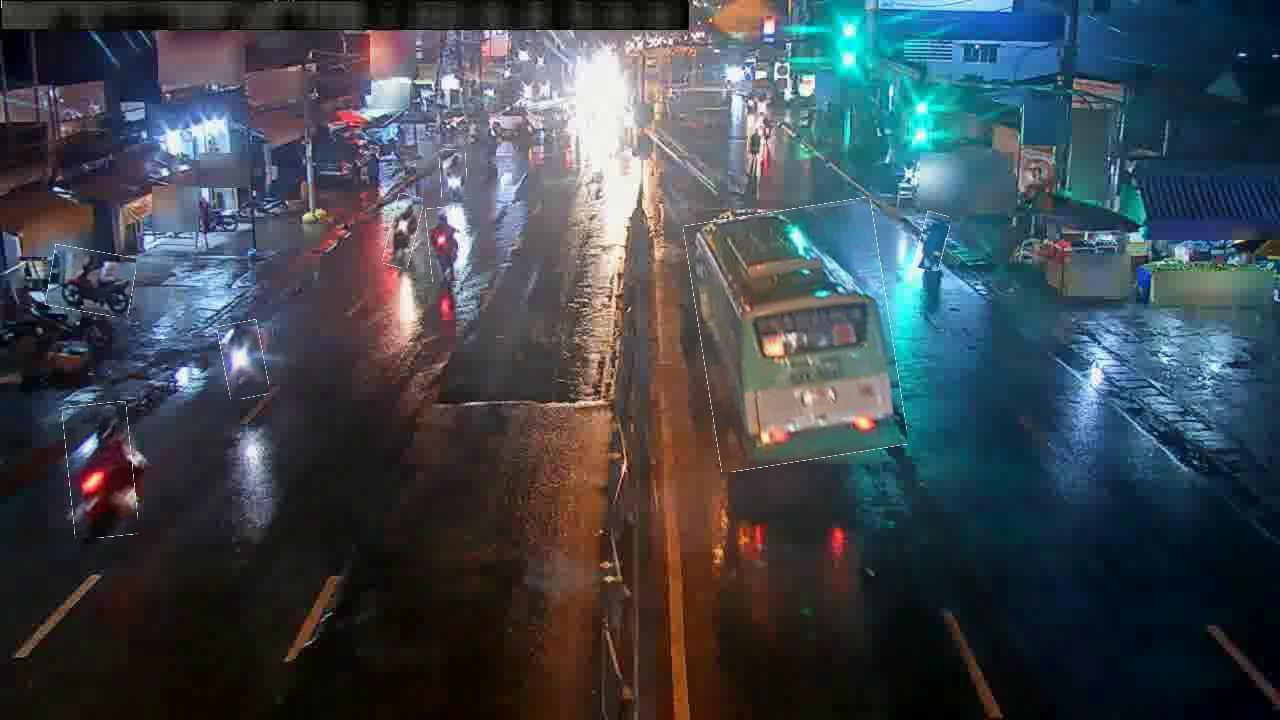motorbike: (66, 403, 136, 538), (48, 248, 135, 315), (221, 321, 267, 399), (386, 194, 420, 268), (427, 207, 460, 283), (917, 212, 948, 271), (440, 150, 468, 200), (748, 125, 767, 159)
passenger_car: (692, 204, 899, 467)
